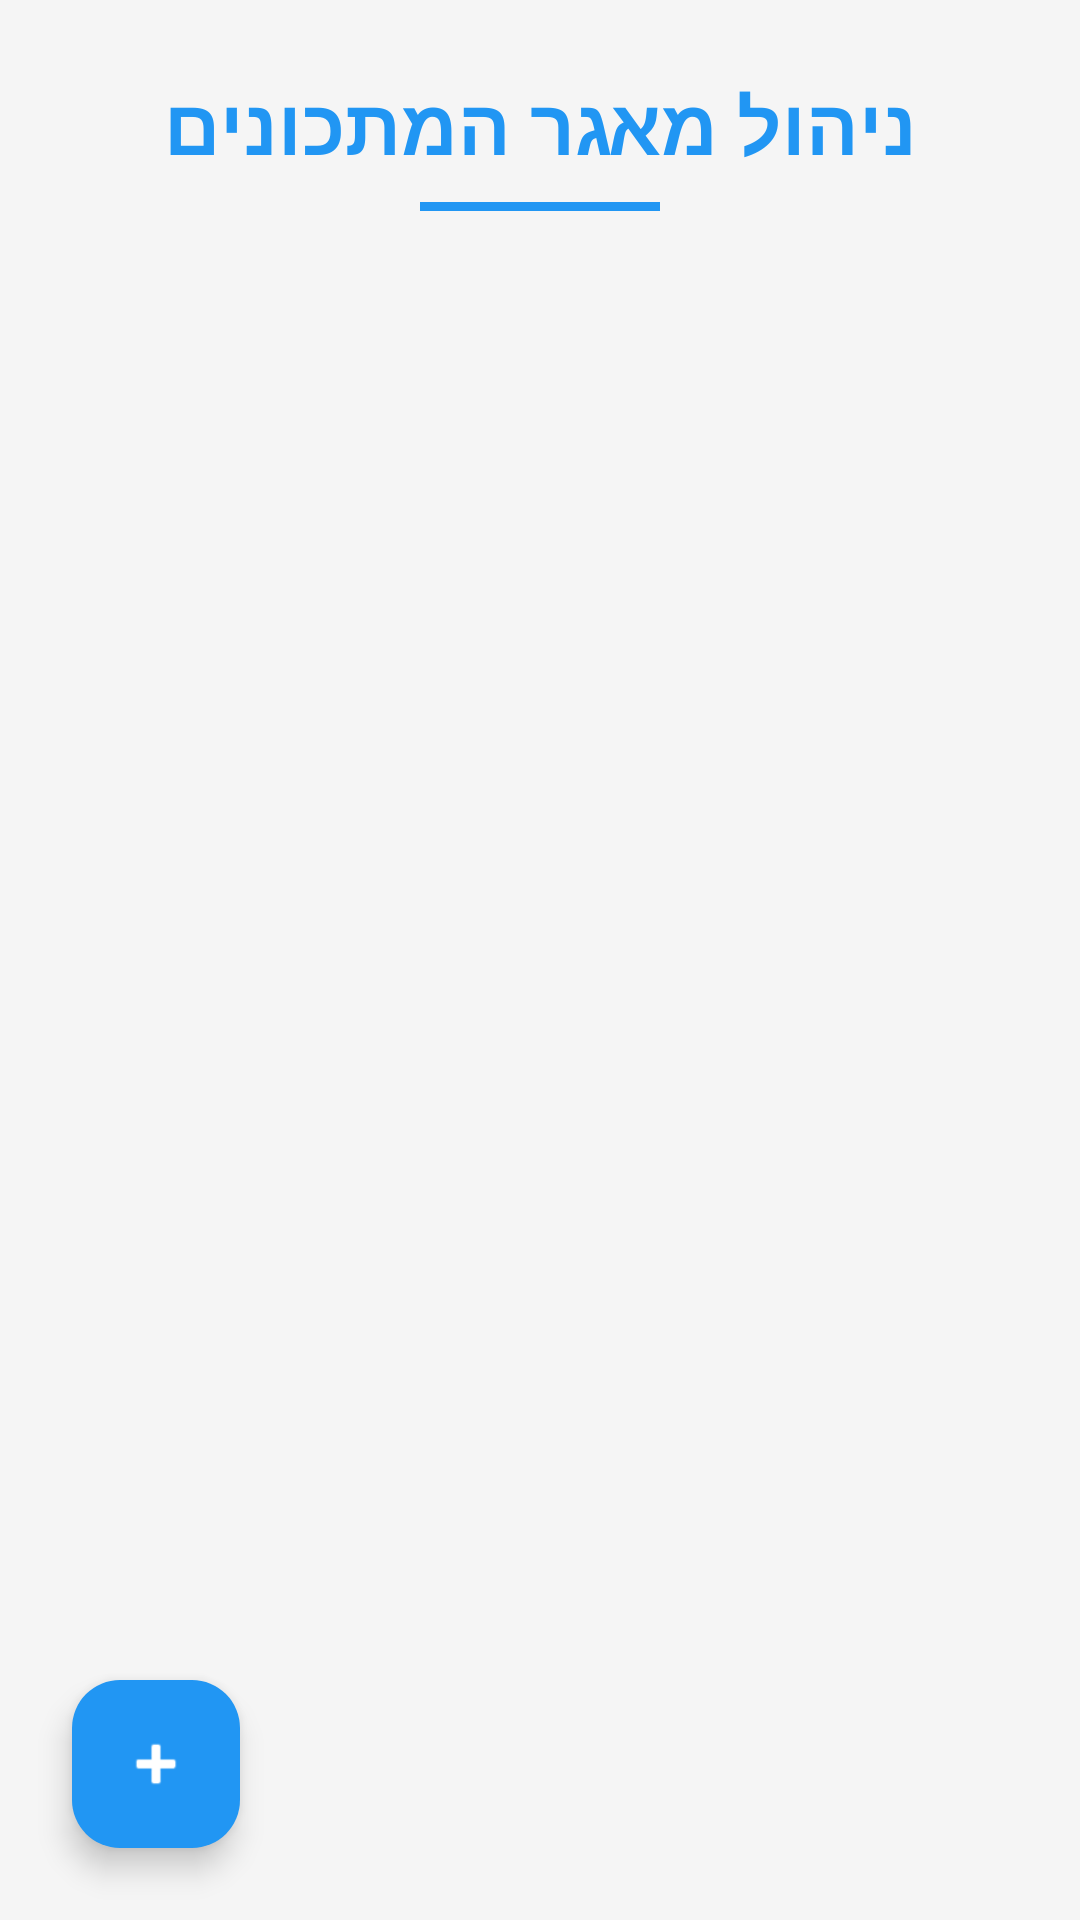

Icon bounding boxes for this 1080×1920 phone screenshot, format (x1, y1, x2, y2):
add: (72, 1680, 240, 1848)
